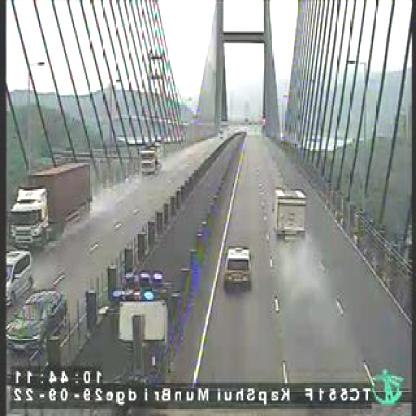Car: (8, 286, 70, 354), (224, 239, 256, 295), (5, 253, 34, 302)
Truck: (13, 154, 92, 246), (273, 184, 312, 246), (140, 137, 164, 177)
